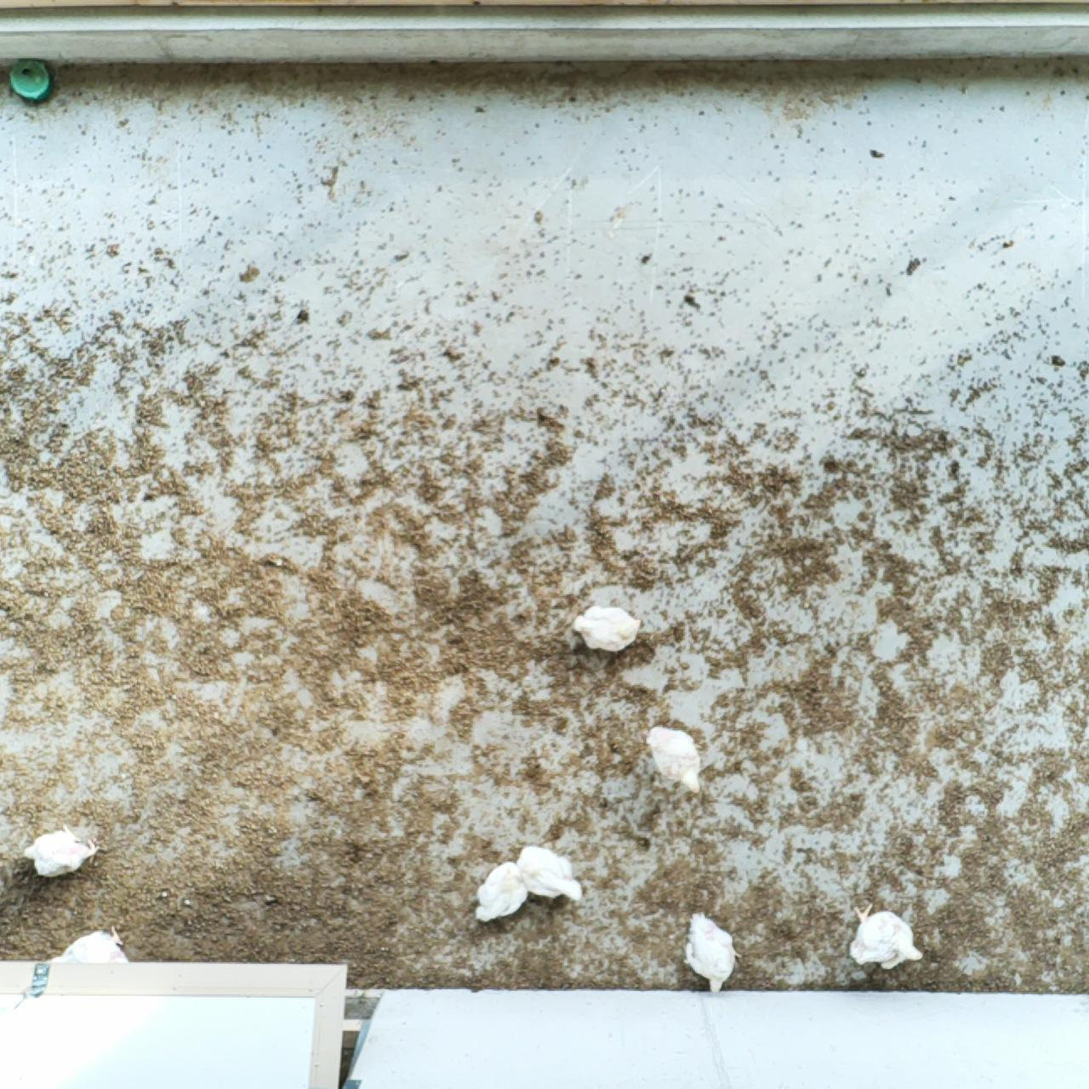chicken: (840, 898, 931, 972), (679, 908, 751, 1000), (639, 725, 706, 799), (512, 841, 585, 908), (22, 824, 103, 883), (472, 858, 529, 927), (572, 604, 646, 656), (49, 922, 136, 966)
